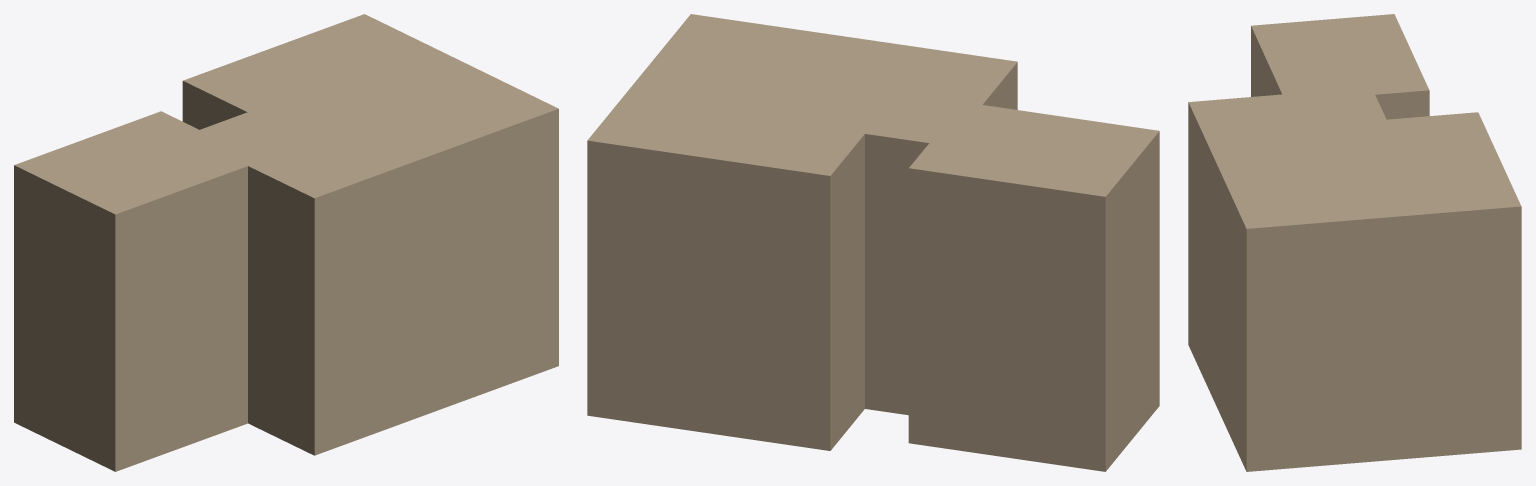
Rendered from bld_101562473.dae.
3 renders of one model, left to right at view 1: azimuth 30°, elevation 25°; view 2: azimuth 150°, elevation 25°; view 3: azimuth 270°, elevation 25°, orthographic. The views are drawn at different scales.
Visible parts, largest first — view 1: bld_101562473; view 2: bld_101562473; view 3: bld_101562473.
Part boxes in pixels (x1,y1,x2,y2): bld_101562473: (14,14,558,471); bld_101562473: (587,14,1159,471); bld_101562473: (1188,14,1521,471).
Size of the model in its own units: 15.17 by 9.94 by 8.
